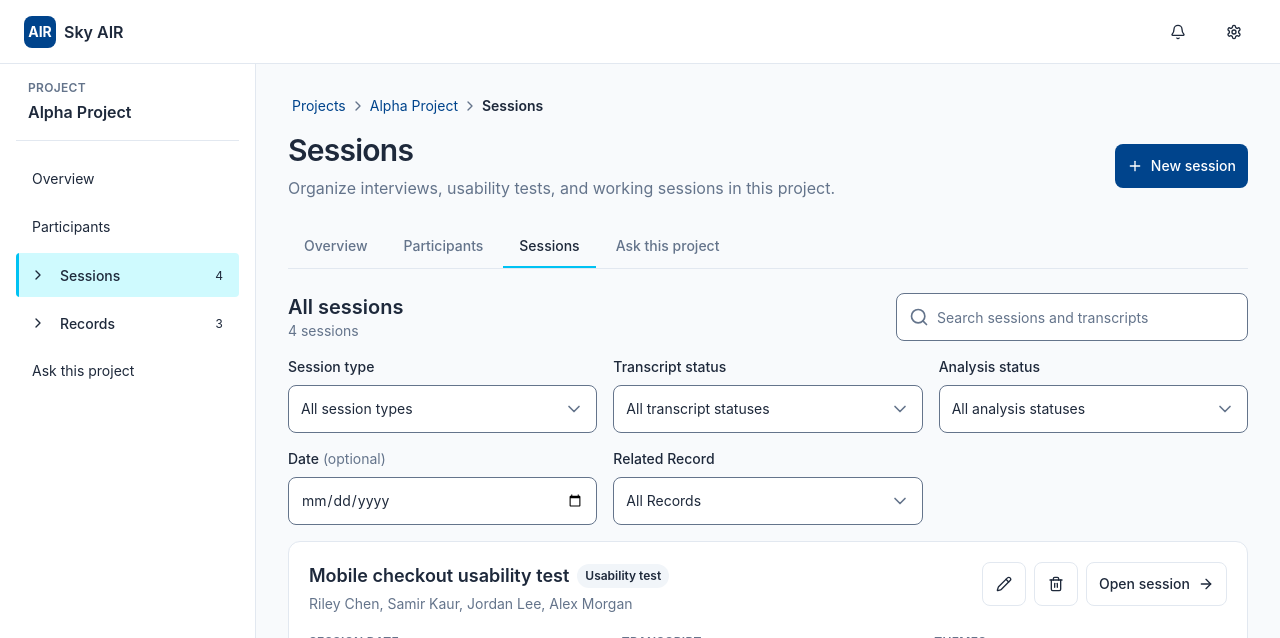
Scenario: application router foundation › opens Edit session from a Session collection row
Click the button named "Edit session". click: (1004, 584)
box: [982, 562, 1026, 606]
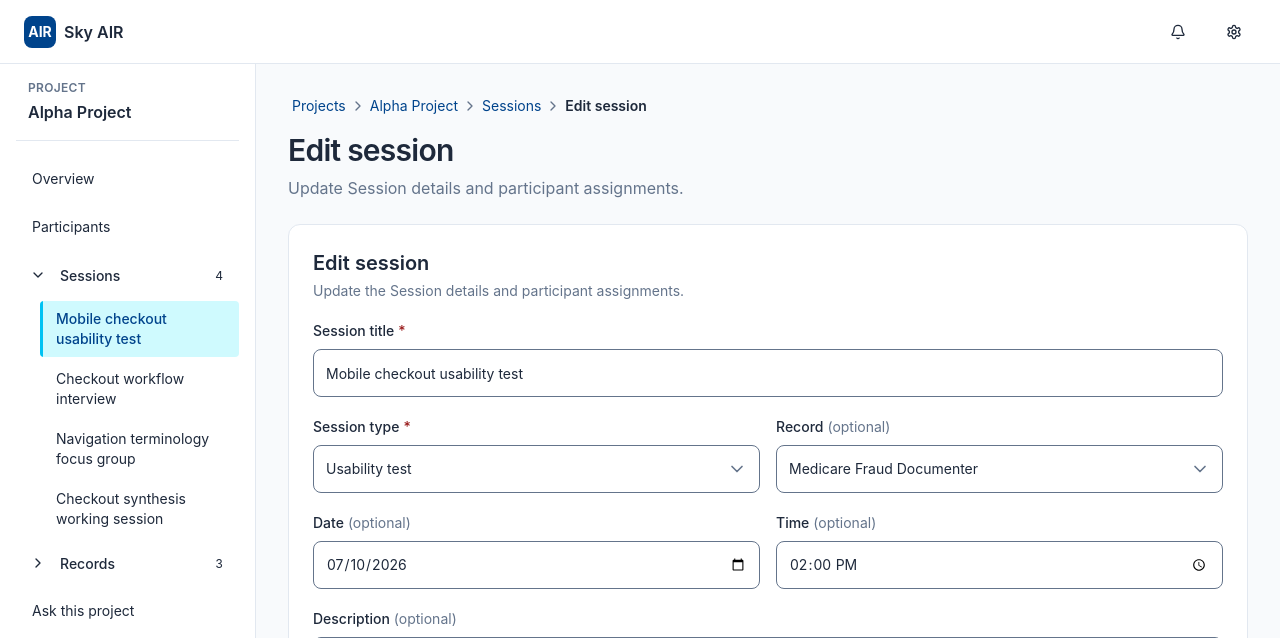
Expected: the heading "Edit session" below "Projects" is shown, [288, 132, 454, 168]
